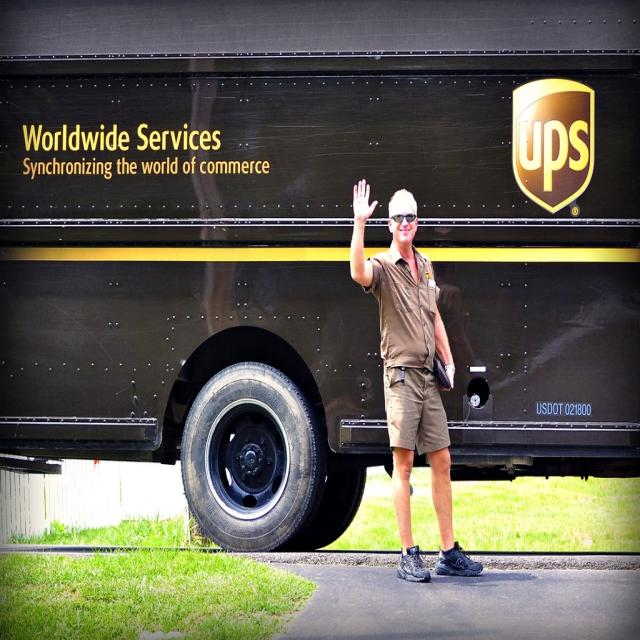ups: (513, 78, 598, 216)
